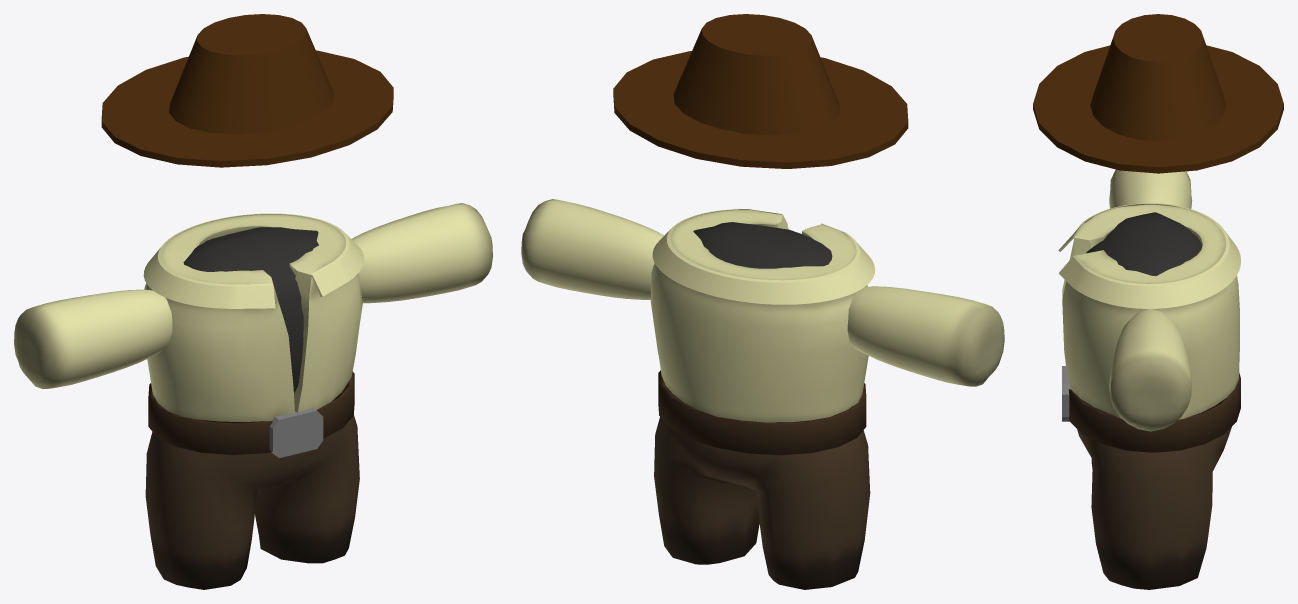
File: Plyr2.fbx
3 renders of one model, left to right at view 1: azimuth 30°, elevation 25°; view 2: azimuth 150°, elevation 25°; view 3: azimuth 270°, elevation 25°, orthographic. The views are drawn at different scales.
Parts seen in each view (by area): view 1: polySurface409; view 2: polySurface409; view 3: polySurface409.
Boxes of the visible parts, x1,y1,x2,y2 form: polySurface409: (14, 14, 492, 589); polySurface409: (521, 14, 1004, 589); polySurface409: (1033, 14, 1283, 589).
Size of the model in its own units: 6.77 by 7.55 by 3.32.
1 material, 1 textured.
